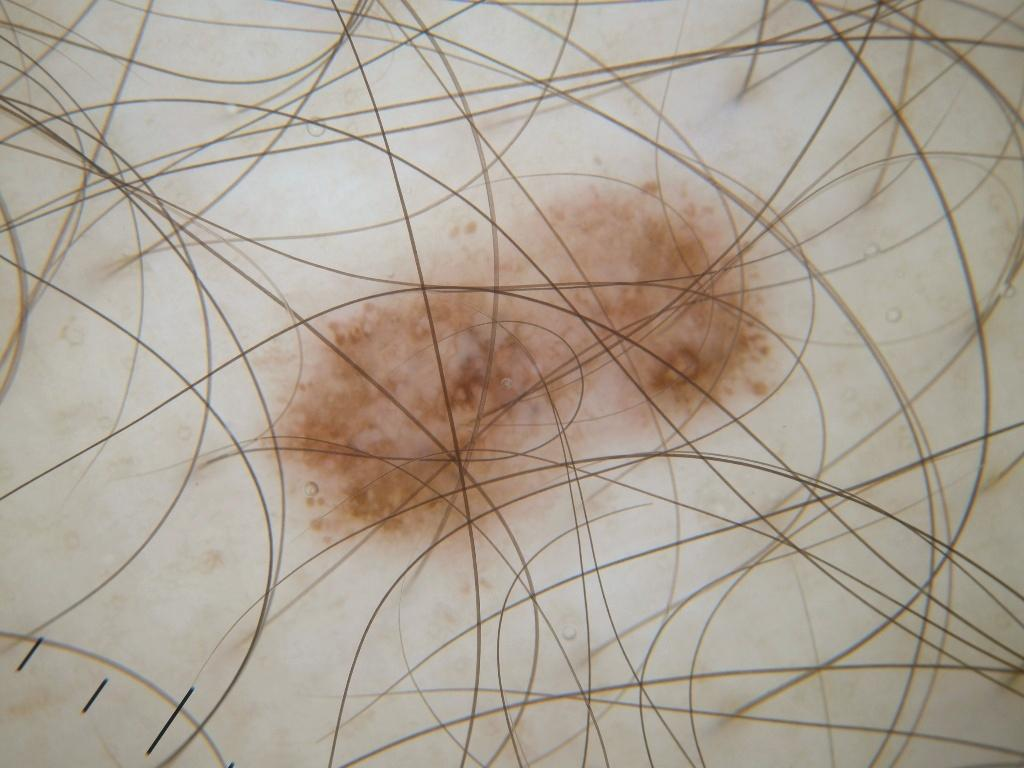Detected Lesion: (264, 151, 771, 547)
